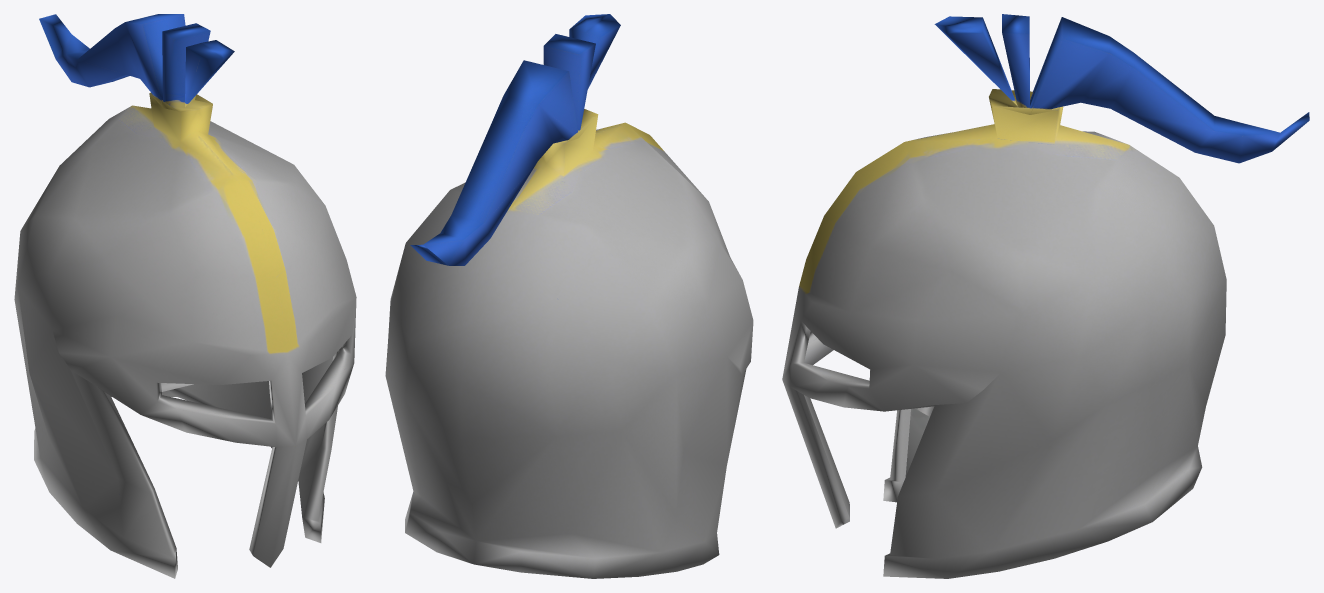
The model's file is head-knight.glb.
The picture shows the model from 3 angles, left to right: view 1: azimuth 30°, elevation 25°; view 2: azimuth 150°, elevation 25°; view 3: azimuth 270°, elevation 25°; orthographic projection. The views are drawn at different scales.
Size of the model in its own units: 0.585 by 0.9526 by 0.8843.
Materials: 1 (1 with a texture image).
